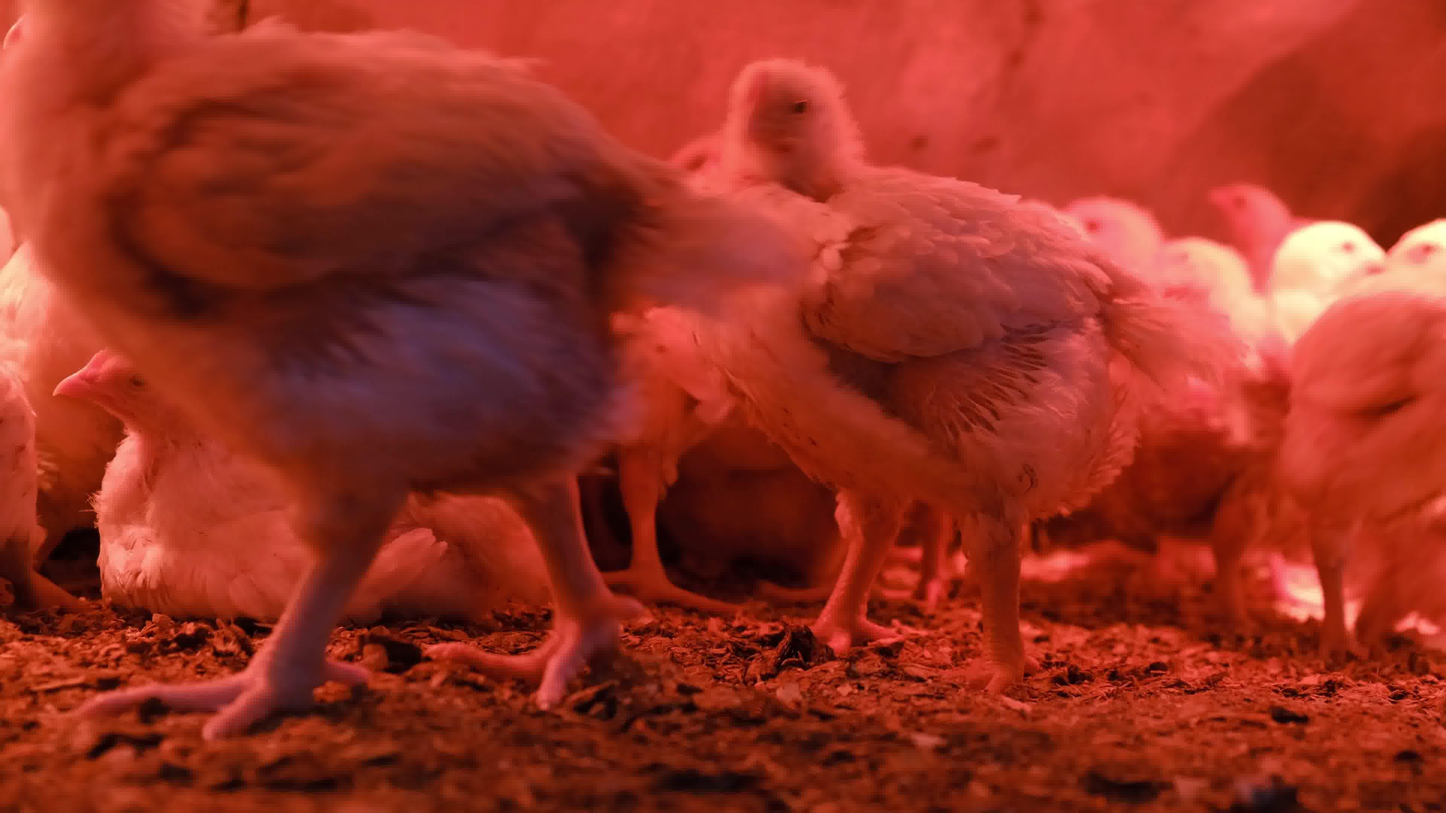AbNormal: (38, 318, 625, 625), (0, 263, 96, 655)
Normal: (6, 6, 746, 726), (708, 41, 1139, 655), (1292, 260, 1446, 672), (1052, 169, 1265, 297), (1246, 199, 1384, 335), (1203, 169, 1333, 243), (1363, 166, 1446, 277)
